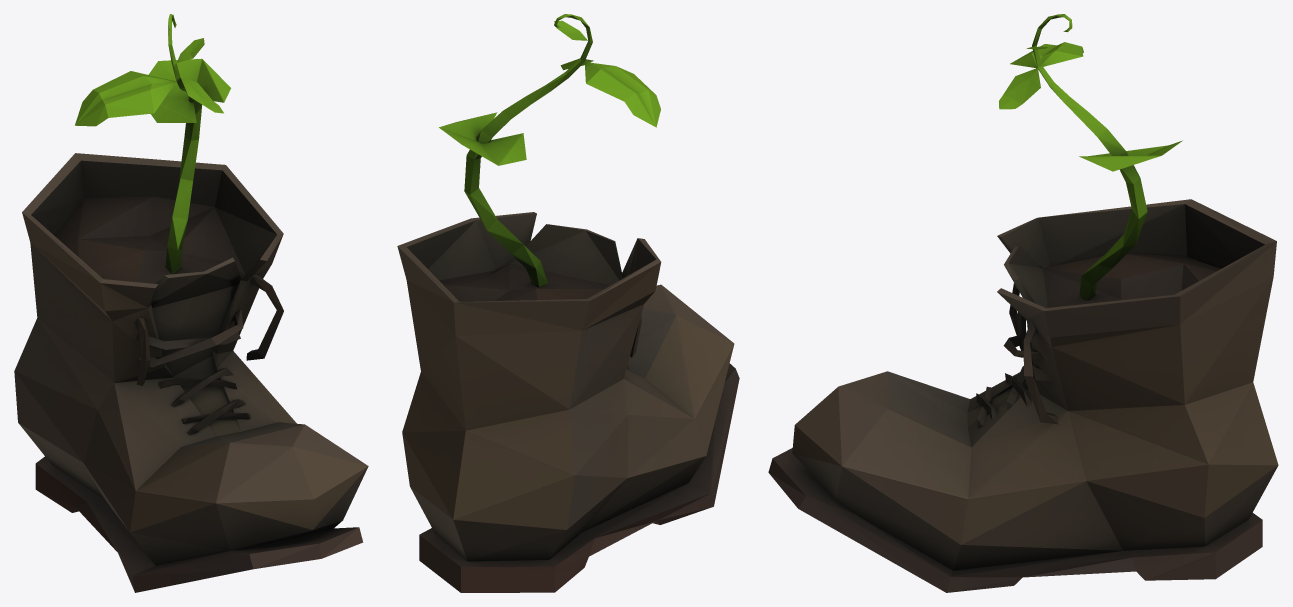
The model's file is plant_in_a_boot.glb.
3 renders of one model, left to right at view 1: azimuth 30°, elevation 25°; view 2: azimuth 150°, elevation 25°; view 3: azimuth 270°, elevation 25°, orthographic. The views are drawn at different scales.
Visible parts, largest first — view 1: Object_2; view 2: Object_2; view 3: Object_2.
Part boxes in pixels (<box>): Object_2: <box>14,14,368,592</box>; Object_2: <box>397,14,739,592</box>; Object_2: <box>768,14,1278,592</box>.
Size of the model in its own units: 3.81 by 9.11 by 7.95.
1 material, 1 textured.
